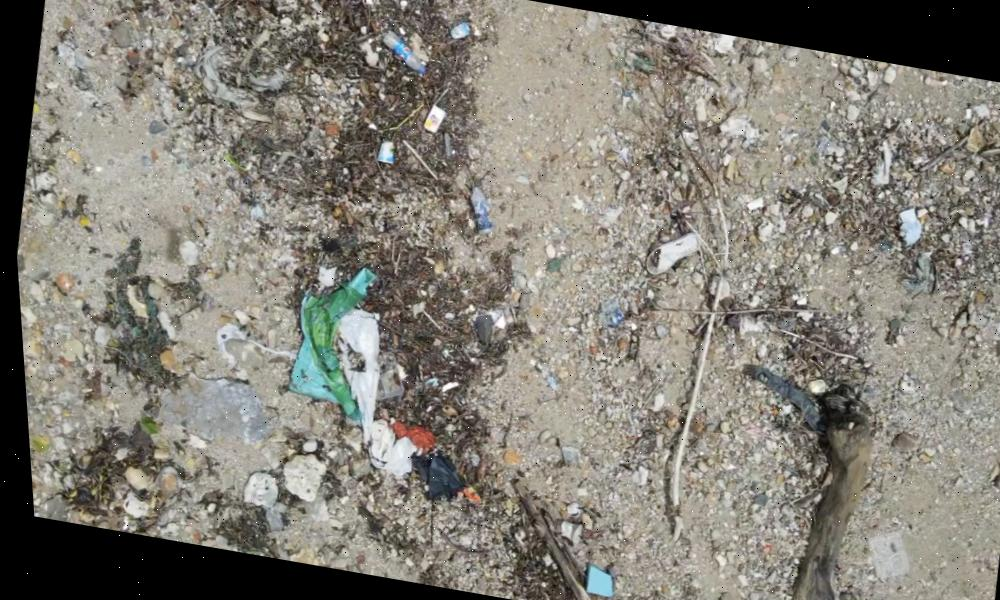plastic bag: (263, 256, 398, 421), (317, 308, 400, 476), (176, 362, 285, 459), (350, 424, 416, 494), (408, 439, 467, 510)
plastic bottle: (380, 30, 432, 73), (461, 184, 495, 241)
plastic container: (846, 519, 915, 589)
